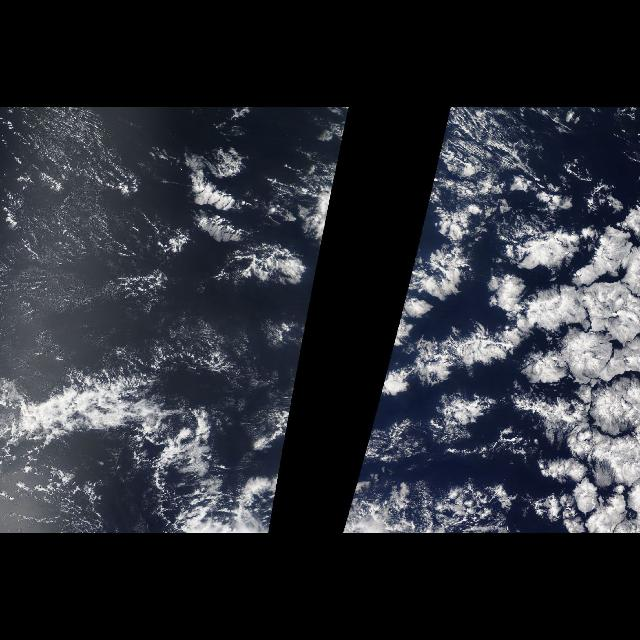Fish: (12, 384, 224, 488)
Flower: (420, 164, 640, 534)
Sugar: (0, 110, 178, 342)
